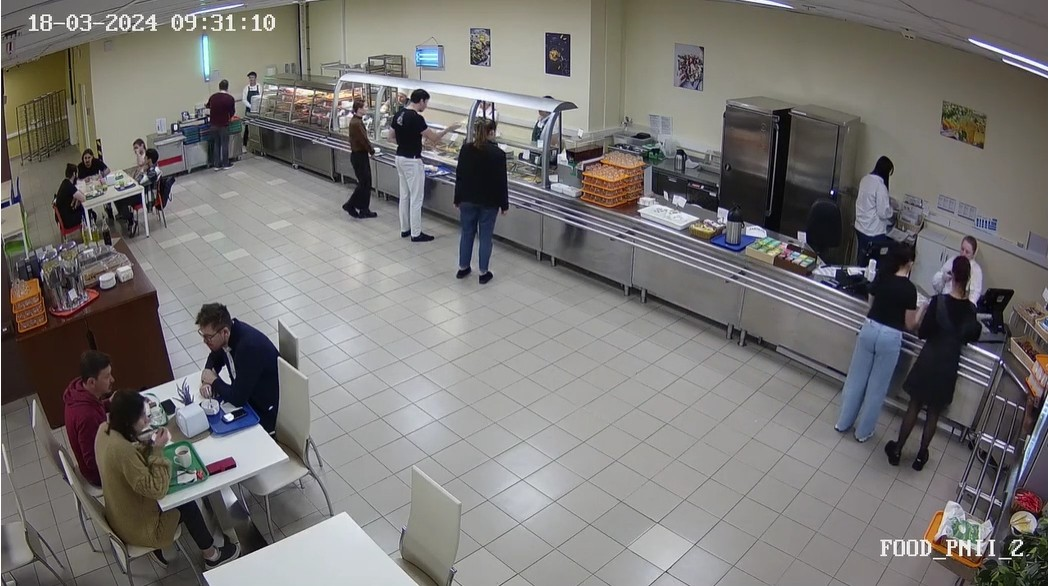Na_Kasse: (801, 252, 1003, 468), (749, 222, 942, 445)
Personal: (849, 134, 900, 285), (934, 212, 987, 319), (525, 80, 569, 160), (241, 58, 274, 119), (468, 75, 506, 119)
Vybiraet: (449, 117, 512, 286), (384, 71, 438, 248), (339, 82, 384, 234), (198, 69, 241, 177)
Za_Stolom: (183, 293, 293, 442), (23, 333, 121, 490), (97, 378, 174, 563), (43, 157, 90, 237), (136, 142, 171, 225), (69, 133, 109, 182), (119, 118, 147, 183)
